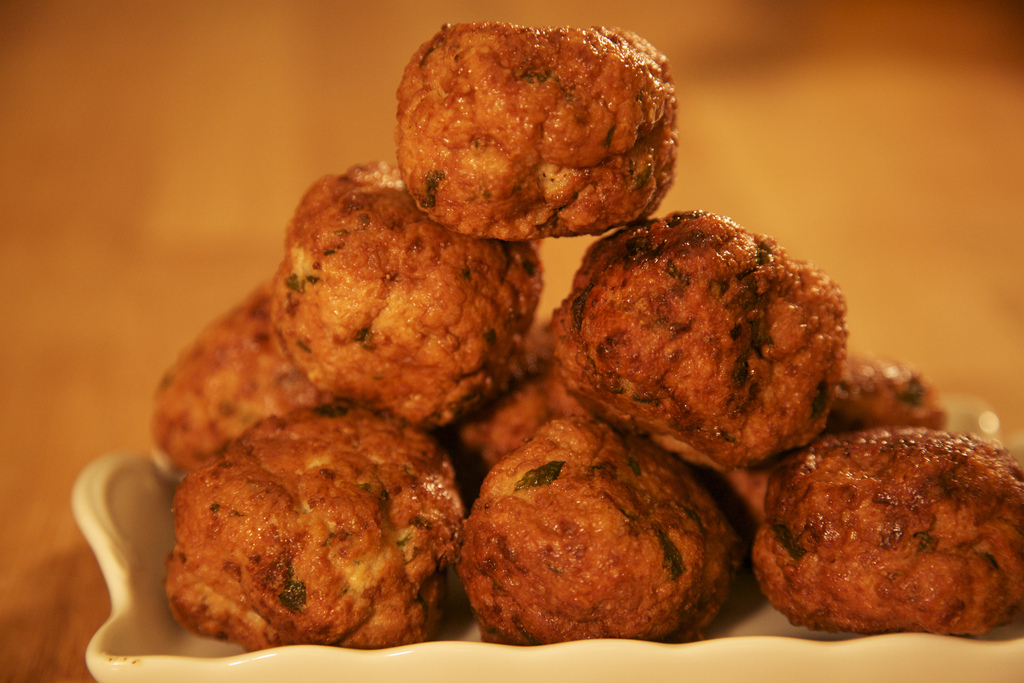meatballs: (259, 179, 554, 434), (169, 418, 474, 650), (472, 402, 751, 651), (568, 214, 855, 456), (390, 22, 690, 240), (765, 424, 1024, 623)
